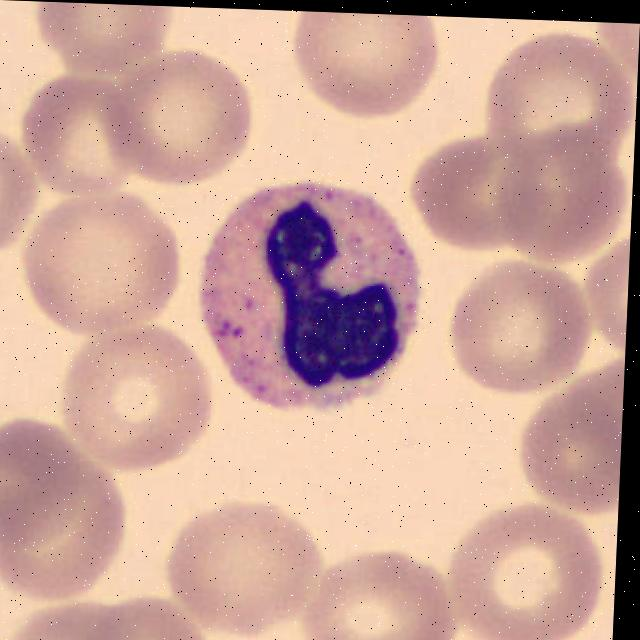neutrophil: (192, 160, 427, 426)
rbc: (12, 184, 189, 337), (161, 485, 333, 640), (53, 322, 216, 480), (444, 249, 598, 403), (105, 47, 262, 195), (403, 129, 562, 260), (481, 32, 636, 164), (450, 509, 606, 640), (283, 11, 441, 132), (0, 465, 135, 606), (514, 361, 625, 518), (7, 76, 136, 203), (502, 131, 618, 267), (293, 545, 459, 640), (32, 1, 179, 87), (0, 412, 86, 549), (575, 230, 631, 360), (0, 128, 49, 265), (0, 593, 135, 640), (91, 593, 204, 640)
